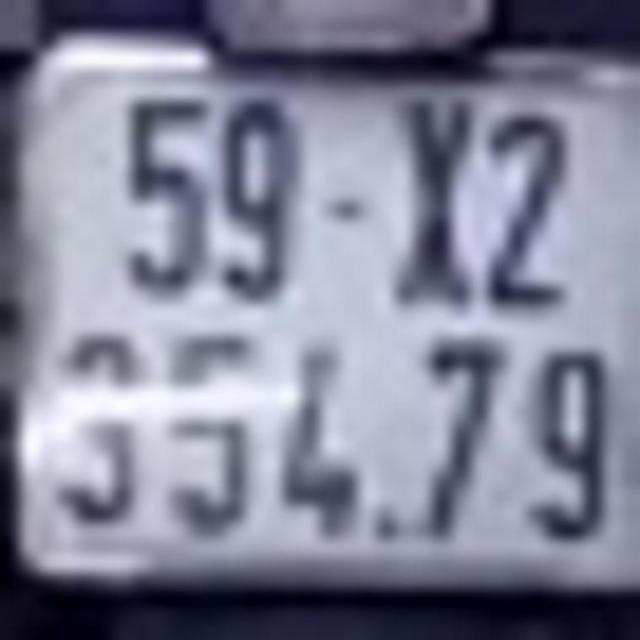2: (484, 101, 574, 312)
4: (277, 328, 363, 544)
5: (114, 85, 210, 302), (173, 321, 254, 537)
7: (410, 331, 510, 552)
9: (219, 92, 298, 314), (56, 318, 140, 524), (536, 342, 612, 542)
X: (386, 95, 476, 308)
